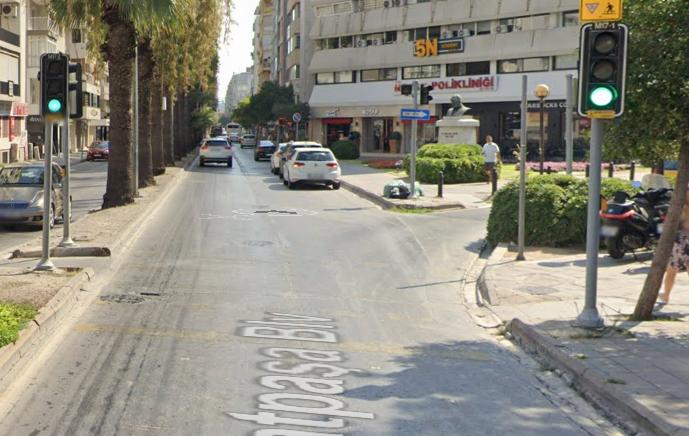greenlight: (580, 23, 624, 115), (40, 54, 65, 115)
